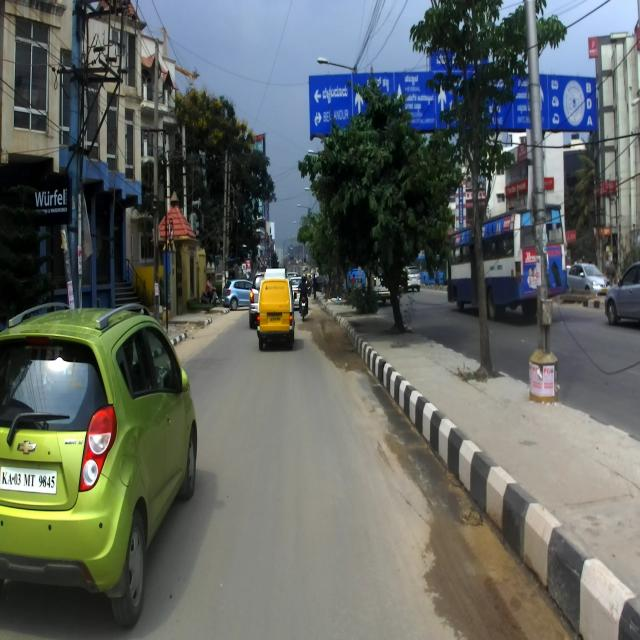bus: (447, 202, 567, 320)
car: (0, 301, 197, 627), (256, 267, 296, 349), (221, 276, 253, 310), (248, 268, 266, 328)
scooter: (200, 286, 219, 307)
